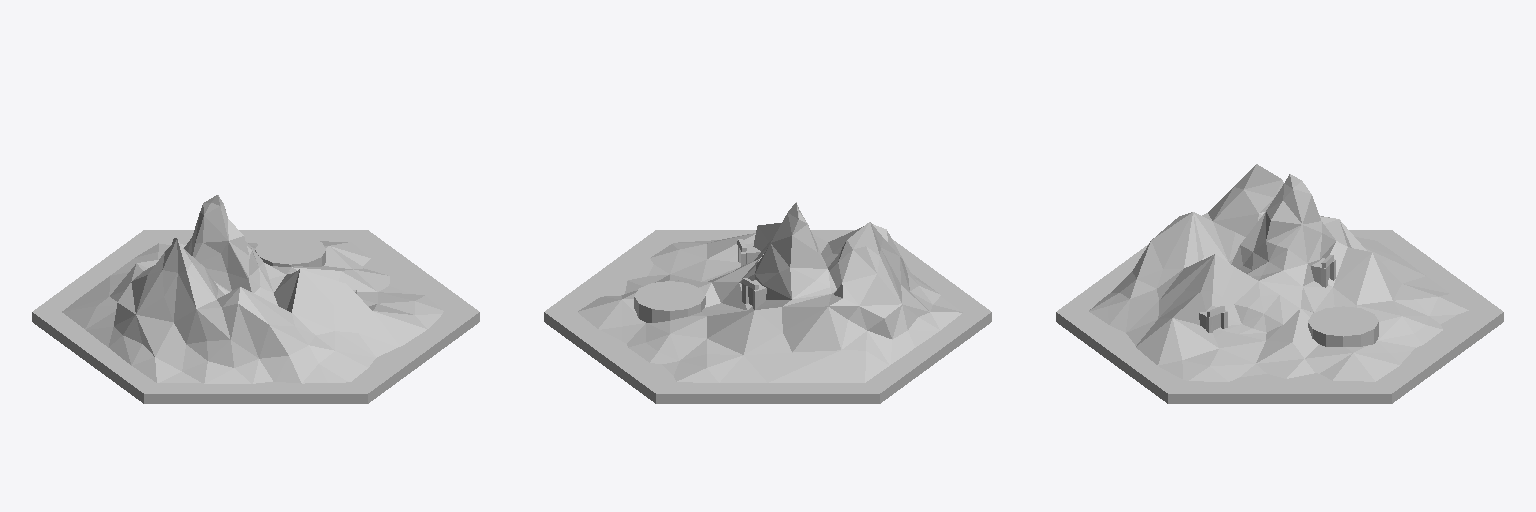
Rendered from mountains.obj.
3 renders of one model, left to right at view 1: azimuth 30°, elevation 25°; view 2: azimuth 150°, elevation 25°; view 3: azimuth 270°, elevation 25°, orthographic.
Visible parts, largest first — view 1: Copy.001_Cylinder.003; view 2: Copy.001_Cylinder.003; view 3: Copy.001_Cylinder.003.
Boxes of the visible parts, box(x1,y1,x2,y2) form: Copy.001_Cylinder.003: box(32, 195, 479, 403); Copy.001_Cylinder.003: box(544, 202, 991, 403); Copy.001_Cylinder.003: box(1056, 164, 1503, 403).
Bounding box in the file's own units: 3.98 × 1.5 × 4.6.